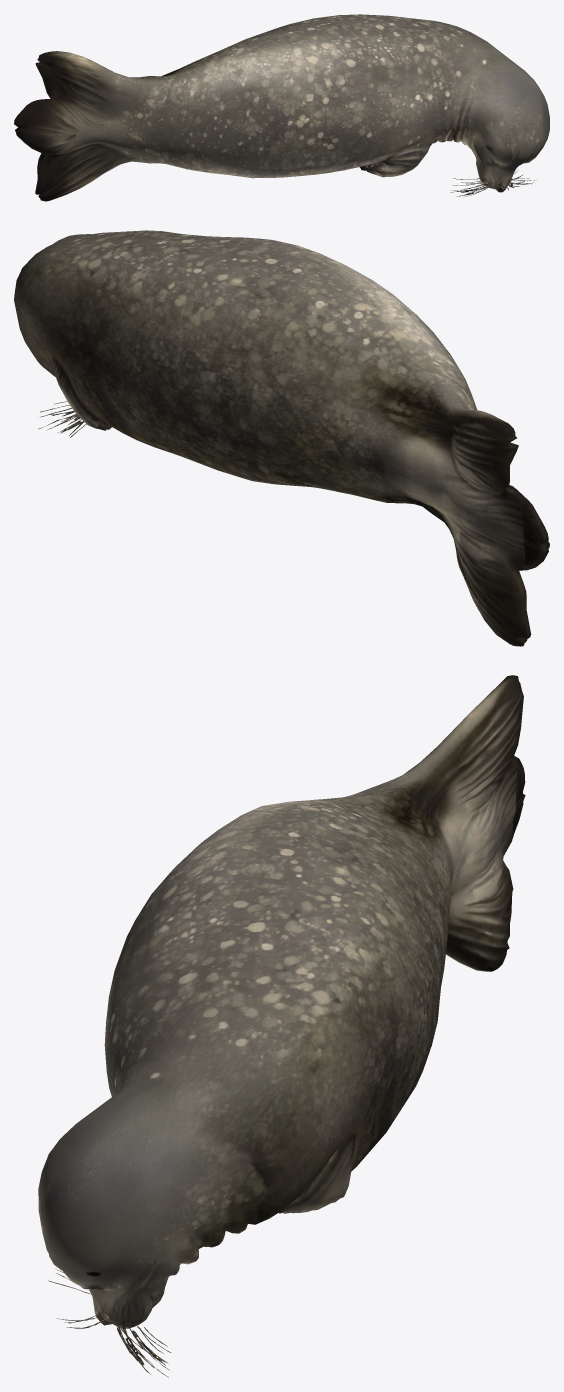
Rendered from scan_harbor_seal.glb.
3 views of the same model, one above another, from view 1: azimuth 30°, elevation 25°; view 2: azimuth 150°, elevation 25°; view 3: azimuth 270°, elevation 25° (orthographic). The views are drawn at different scales.
Visible parts, largest first — view 1: scan_harbor_seal; view 2: scan_harbor_seal; view 3: scan_harbor_seal.
Boxes of the visible parts, x1,y1,x2,y2 form: scan_harbor_seal: (14,14,549,201); scan_harbor_seal: (14,230,549,646); scan_harbor_seal: (38,675,525,1377).
Size of the model in its own units: 1.6 by 0.6391 by 0.7908.
Materials: 1 (1 with a texture image).
